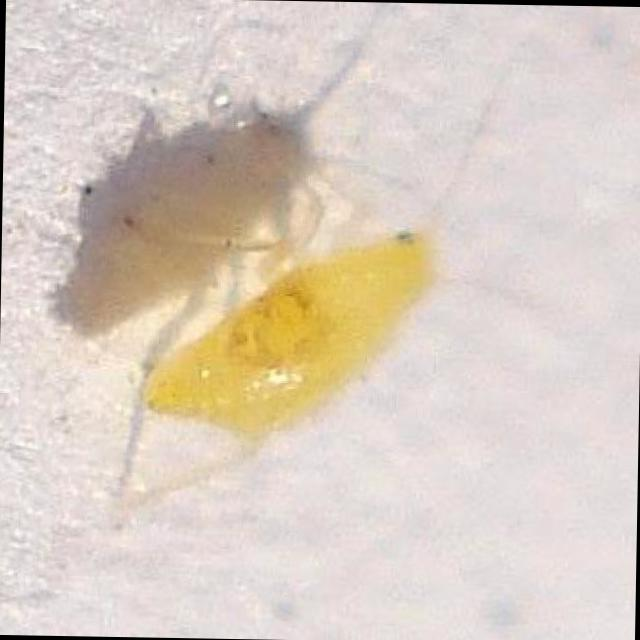aphid: (74, 101, 506, 560)
